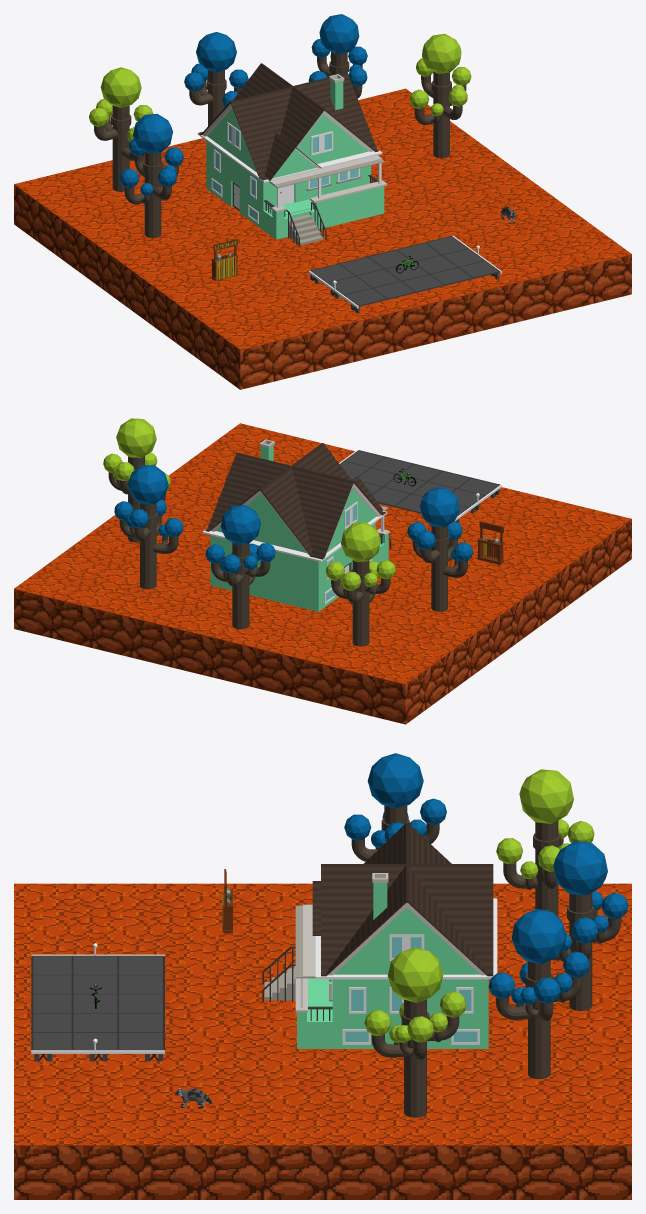
3 renders of one model, top to bottom at view 1: azimuth 30°, elevation 25°; view 2: azimuth 150°, elevation 25°; view 3: azimuth 270°, elevation 25°, orthographic. The views are drawn at different scales.
Visible parts, largest first — view 1: Cube.001, Cube.352, OBJRANDOM_LEMONADE_STAND; view 2: Cube.001, Cube.352, OBJRANDOM_LEMONADE_STAND; view 3: Cube.001, Cube.352.
Part boxes in pixels (<box>): Cube.001: <box>14,14,631,389</box>; Cube.352: <box>197,63,387,246</box>; OBJRANDOM_LEMONADE_STAND: <box>211,239,237,280</box>; Cube.001: <box>14,418,631,724</box>; Cube.352: <box>202,439,391,611</box>; OBJRANDOM_LEMONADE_STAND: <box>477,521,503,564</box>; Cube.001: <box>14,753,631,1199</box>; Cube.352: <box>262,823,497,1048</box>.
Bounding box in the file's own units: 4000 × 1664 × 4000.
40 materials, 4 textured.
